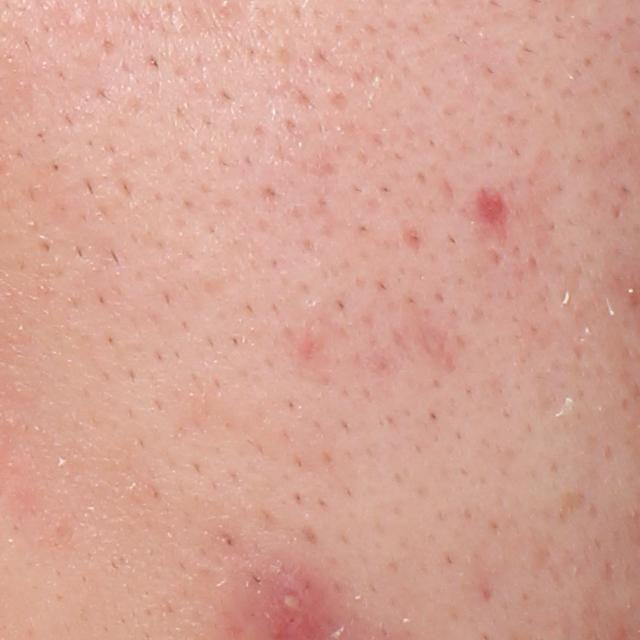pustule: (253, 570, 333, 634)
